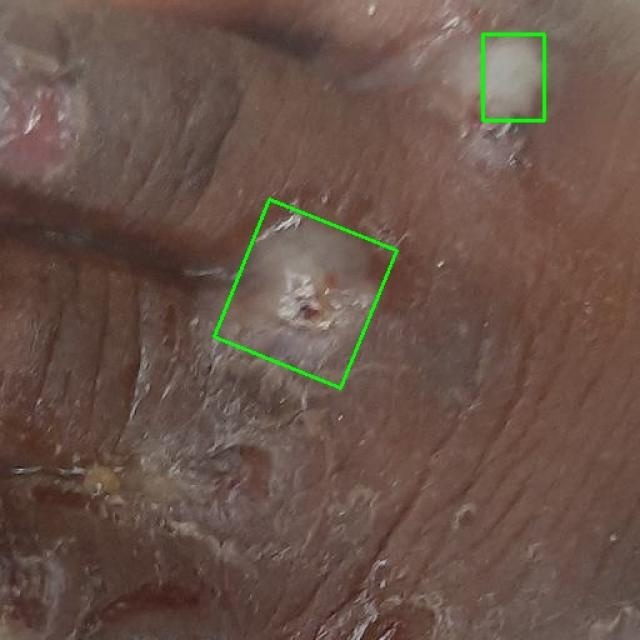Eczema: (214, 199, 397, 389), (482, 34, 544, 120)
